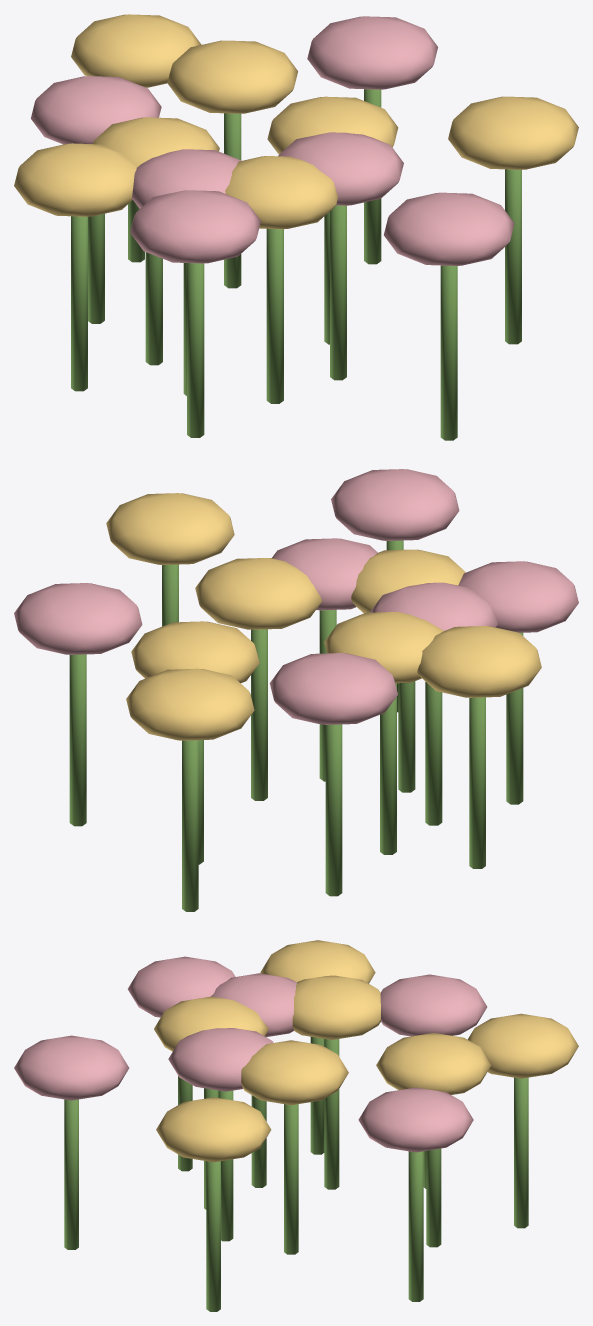
The model's file is prop-wildflowers.glb.
3 renders of one model, top to bottom at view 1: azimuth 30°, elevation 25°; view 2: azimuth 150°, elevation 25°; view 3: azimuth 270°, elevation 25°, orthographic. The views are drawn at different scales.
Visible parts, largest first — view 1: prop-wildflowers_flower, prop-wildflowers_pink, prop-wildflowers_leaf; view 2: prop-wildflowers_flower, prop-wildflowers_pink, prop-wildflowers_leaf; view 3: prop-wildflowers_flower, prop-wildflowers_pink, prop-wildflowers_leaf.
Boxes of the visible parts, left/top/right/bottom form: prop-wildflowers_flower: left=14, top=14, right=578, bottom=229; prop-wildflowers_pink: left=31, top=16, right=514, bottom=265; prop-wildflowers_leaf: left=71, top=89, right=521, bottom=440; prop-wildflowers_flower: left=106, top=493, right=541, bottom=740; prop-wildflowers_pink: left=14, top=469, right=578, bottom=724; prop-wildflowers_leaf: left=69, top=540, right=523, bottom=911; prop-wildflowers_flower: left=154, top=940, right=578, bottom=1162; prop-wildflowers_pink: left=14, top=956, right=487, bottom=1152; prop-wildflowers_leaf: left=64, top=1037, right=528, bottom=1311.
Size of the model in its own units: 1.17 by 0.54 by 1.37.
